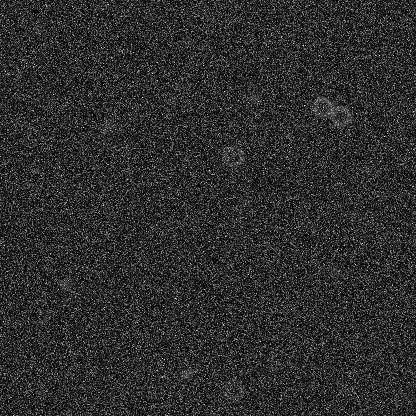Ring: (220, 144, 244, 168), (310, 95, 334, 119), (221, 377, 245, 401), (329, 104, 353, 128), (267, 359, 291, 383)
Spot: (100, 118, 116, 134), (325, 264, 341, 280), (246, 89, 262, 105), (56, 277, 72, 293), (345, 207, 361, 223), (359, 162, 375, 178), (28, 21, 44, 37), (178, 365, 194, 381), (164, 90, 180, 106)
